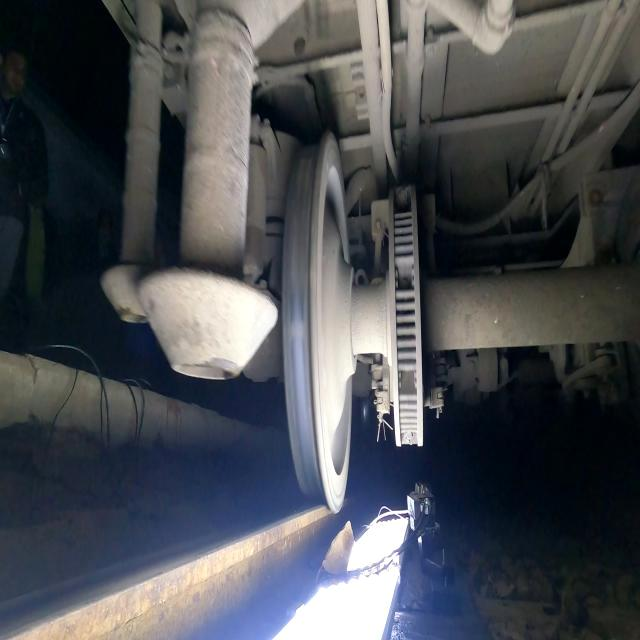Discoloration: (286, 287, 307, 322)
Shelling: (287, 157, 313, 289)
Wheel: (282, 133, 355, 514)
